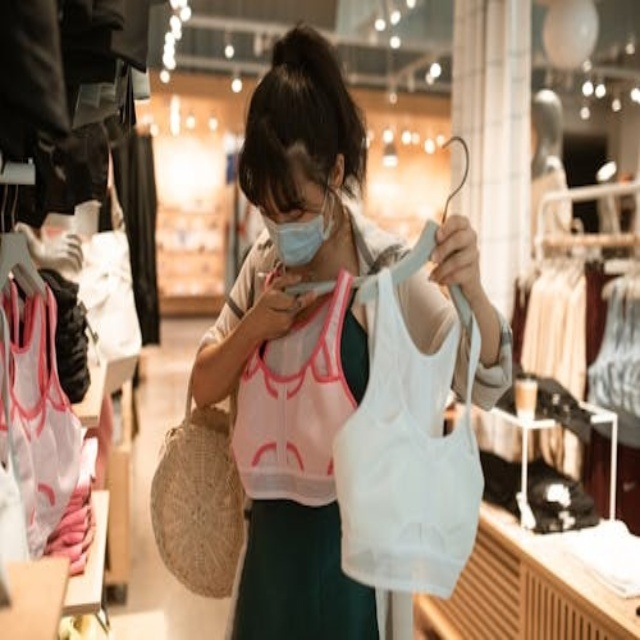Mascara: (257, 208, 333, 267)
Sin_gafas: (252, 188, 314, 231)
Sin_guantes: (429, 204, 486, 304), (238, 267, 306, 348)
